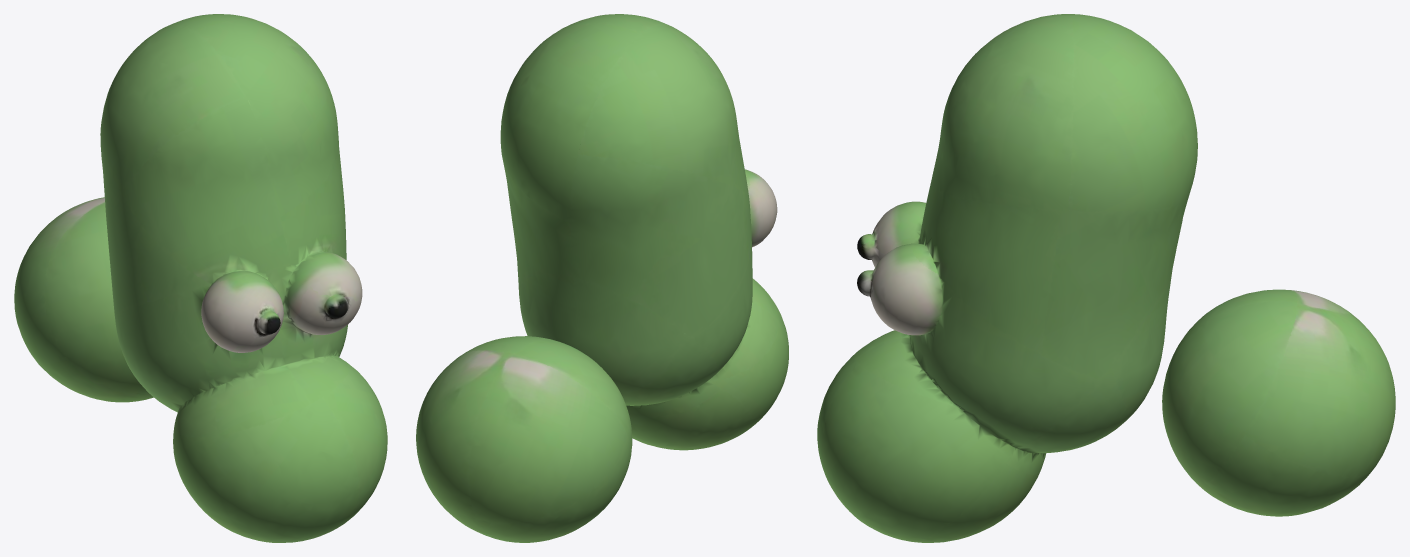
Rendered from green.glb.
3 views of the same model, side by side, from view 1: azimuth 30°, elevation 25°; view 2: azimuth 150°, elevation 25°; view 3: azimuth 270°, elevation 25° (orthographic). The views are drawn at different scales.
Visible parts, largest first — view 1: tripo_node_81f67be7-6cf2-4157-a4e9-8b861c1b8f9a; view 2: tripo_node_81f67be7-6cf2-4157-a4e9-8b861c1b8f9a; view 3: tripo_node_81f67be7-6cf2-4157-a4e9-8b861c1b8f9a.
Part boxes in pixels (x1,y1,x2,y2): tripo_node_81f67be7-6cf2-4157-a4e9-8b861c1b8f9a: (14,14,387,542); tripo_node_81f67be7-6cf2-4157-a4e9-8b861c1b8f9a: (416,14,788,542); tripo_node_81f67be7-6cf2-4157-a4e9-8b861c1b8f9a: (817,14,1395,542).
Bounding box in the file's own units: 0.4558 × 0.9645 × 0.9998.
1 material, 1 textured.
